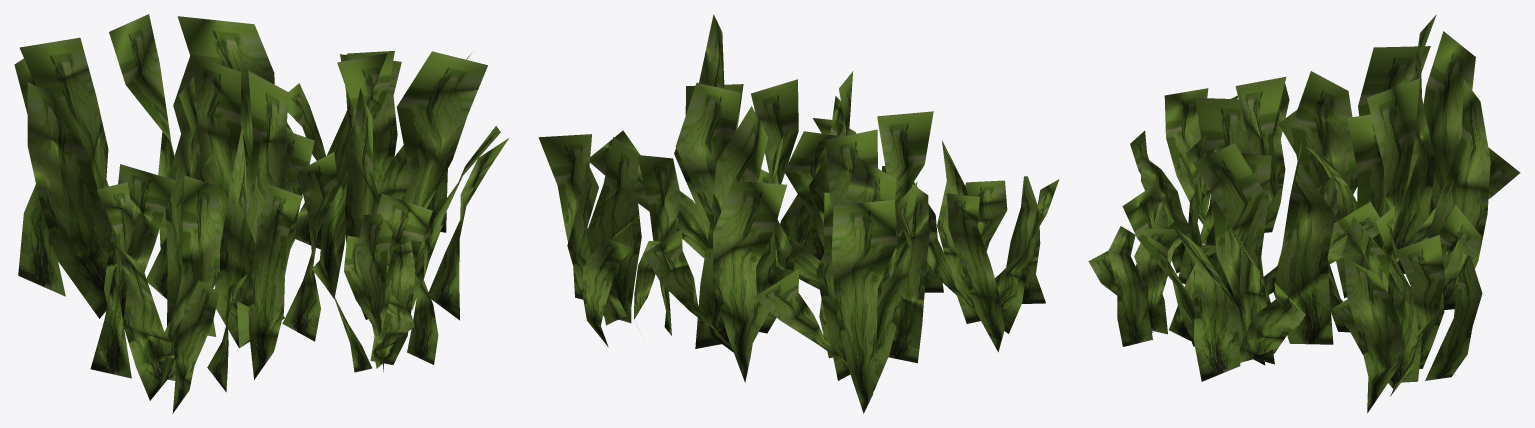
File: SeaWeed09-transformed.glb
The picture shows the model from 3 angles, left to right: view 1: azimuth 30°, elevation 25°; view 2: azimuth 150°, elevation 25°; view 3: azimuth 270°, elevation 25°; orthographic projection. The views are drawn at different scales.
Parts seen in each view (by area): view 1: SeaWeed09; view 2: SeaWeed09; view 3: SeaWeed09.
Part boxes in pixels (<box>): SeaWeed09: <box>14,14,508,413</box>; SeaWeed09: <box>538,14,1059,413</box>; SeaWeed09: <box>1088,14,1520,413</box>.
Bounding box in the file's own units: 0.5196 × 0.2956 × 0.4741.
1 material, 1 textured.
